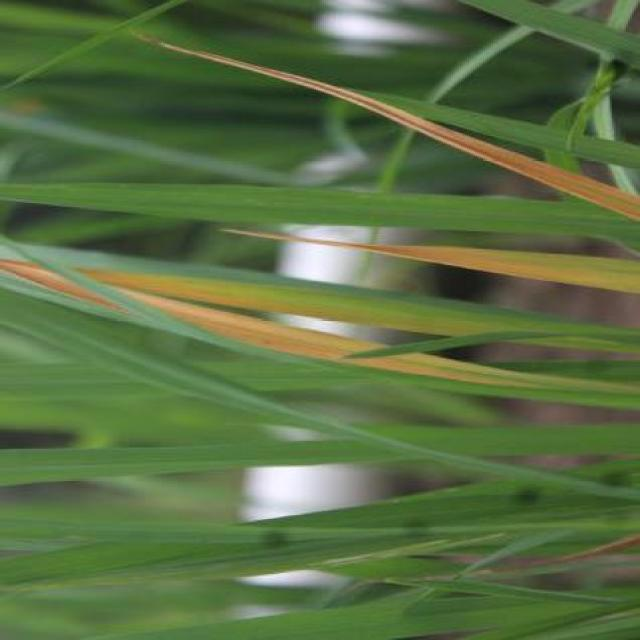Tungro: (134, 21, 640, 218), (21, 256, 458, 380), (235, 224, 640, 308)
